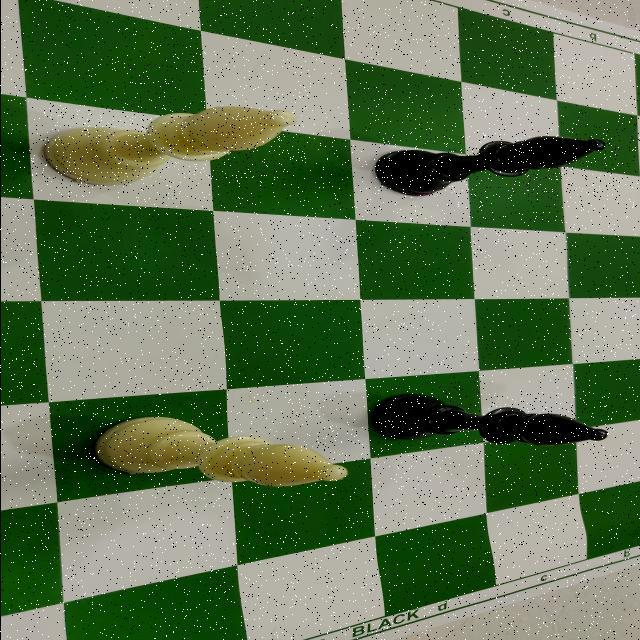black-bishop: (372, 134, 608, 197), (367, 392, 609, 448)
white-bishop: (42, 105, 296, 187), (95, 415, 348, 489)
